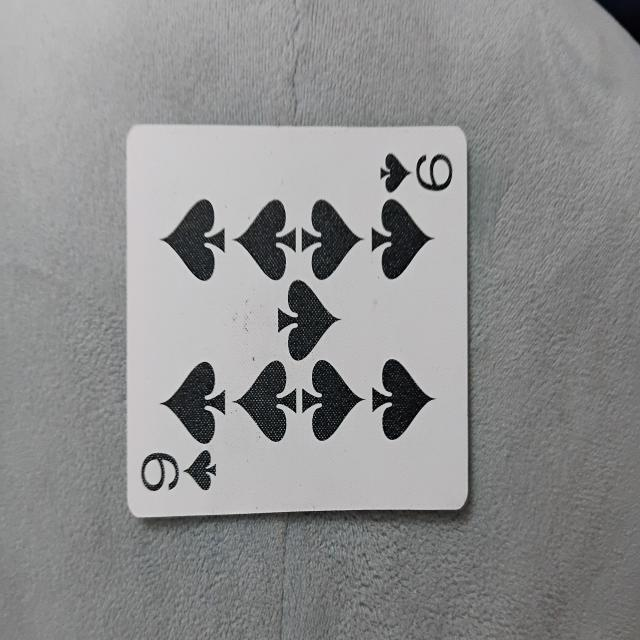9S: (127, 123, 470, 513)
